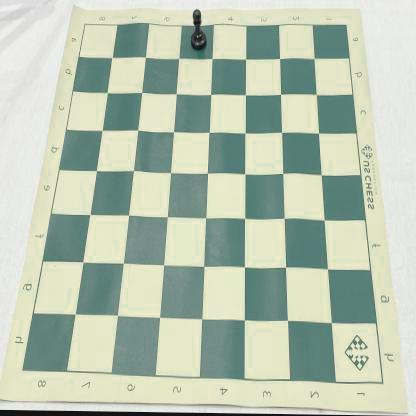black-pawn: (190, 10, 208, 52)
